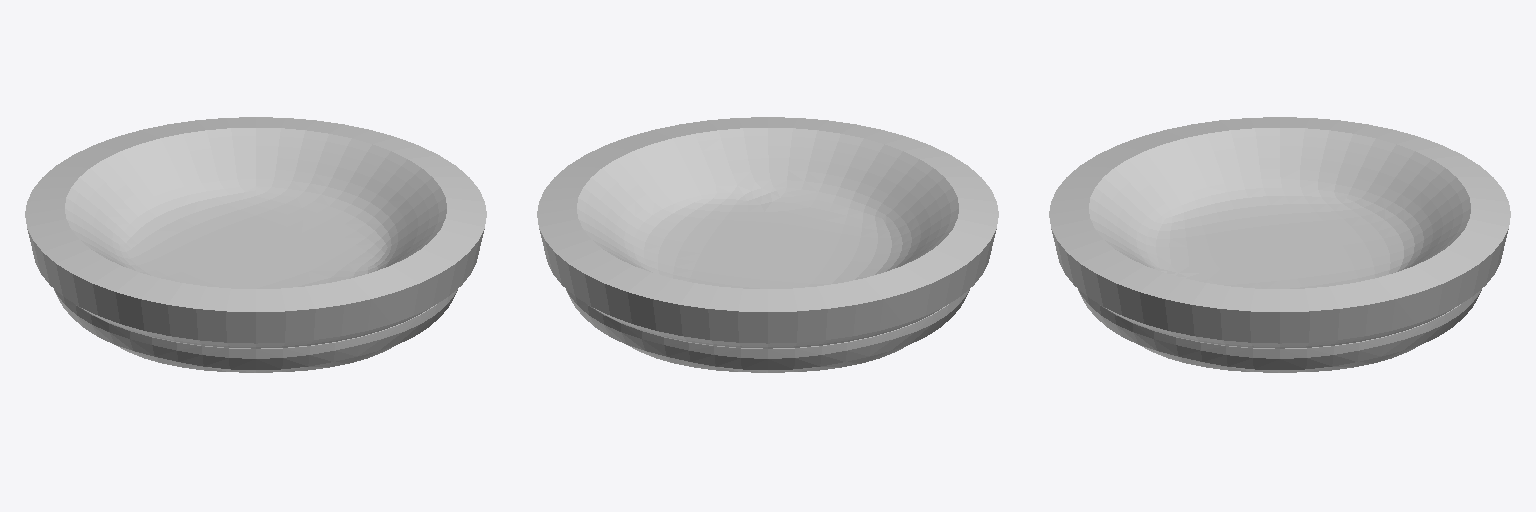
Rendered from fatBowl.obj.
3 renders of one model, left to right at view 1: azimuth 30°, elevation 25°; view 2: azimuth 150°, elevation 25°; view 3: azimuth 270°, elevation 25°, orthographic.
Visible parts, largest first — view 1: Plato; view 2: Plato; view 3: Plato.
Boxes of the visible parts, x1,y1,x2,y2 form: Plato: [25, 117, 486, 372]; Plato: [537, 117, 998, 372]; Plato: [1049, 117, 1510, 372].
Bounding box in the file's own units: 1.5 × 0.3424 × 1.5.